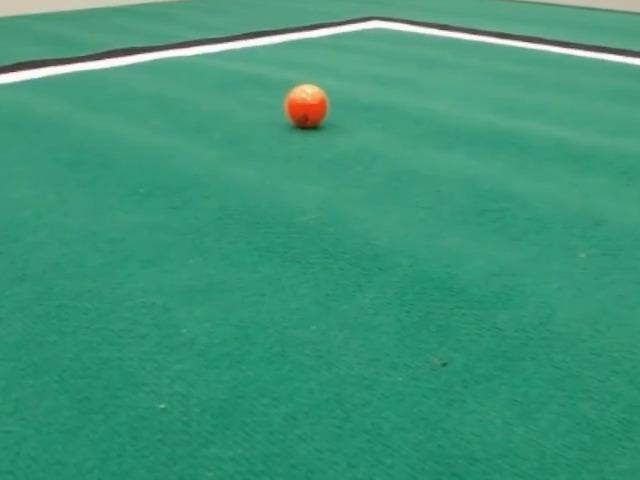Ball: (284, 84, 328, 128)
